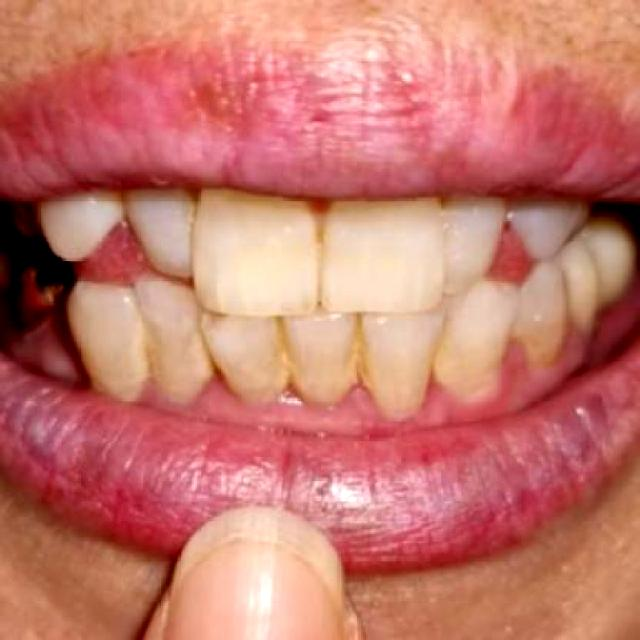Plaque: (196, 341, 565, 429), (137, 379, 193, 416), (301, 201, 330, 224)
